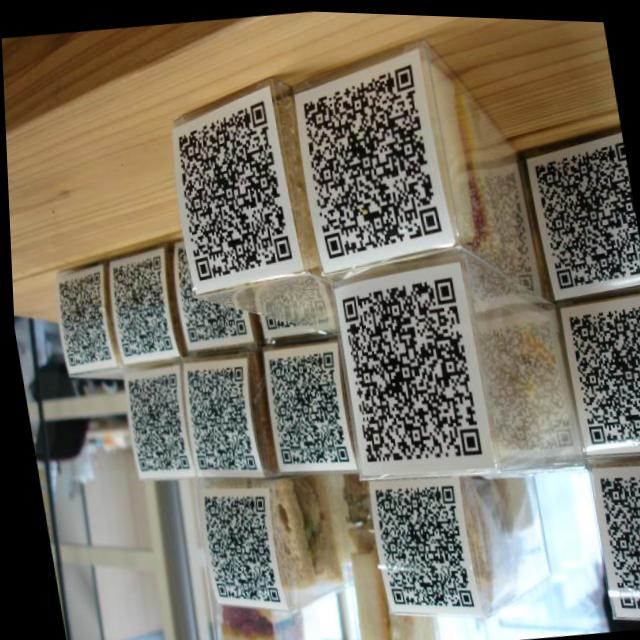qrcode: (294, 57, 443, 260), (336, 270, 478, 464), (168, 95, 292, 283), (531, 134, 640, 288), (367, 477, 469, 613), (473, 314, 570, 452), (450, 166, 534, 301), (565, 297, 640, 444), (262, 348, 347, 467), (195, 487, 276, 607), (179, 362, 256, 474), (171, 241, 244, 343), (104, 253, 173, 357), (121, 370, 187, 473), (595, 464, 640, 613), (50, 269, 112, 367), (252, 270, 326, 330)
